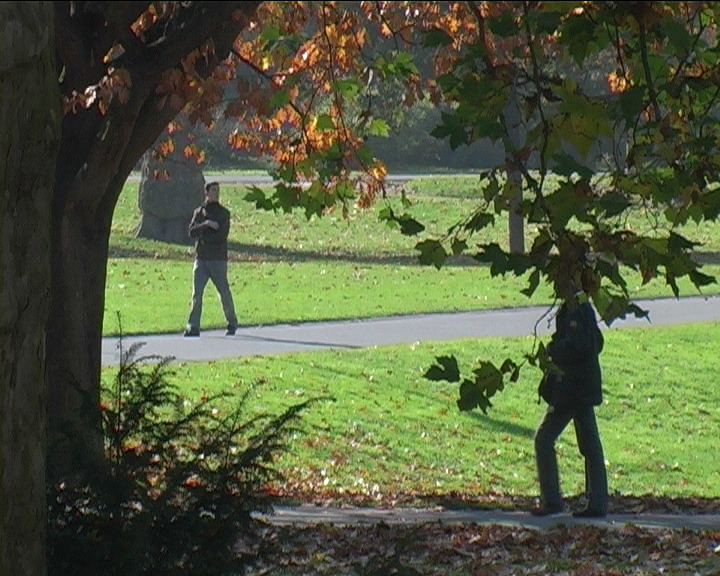deflection: (193, 180, 235, 241)
